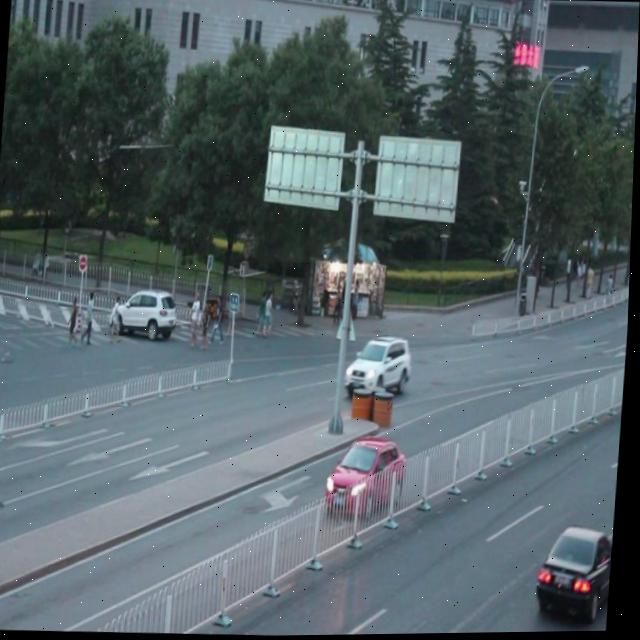car: (535, 519, 617, 622), (325, 434, 409, 516), (344, 332, 414, 404), (111, 284, 181, 340)
